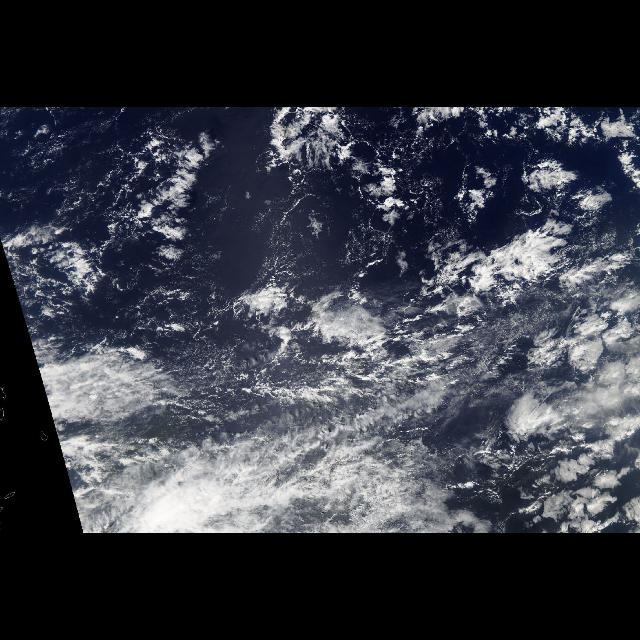Flower: (539, 326, 635, 530)
Gravel: (226, 164, 448, 308)
